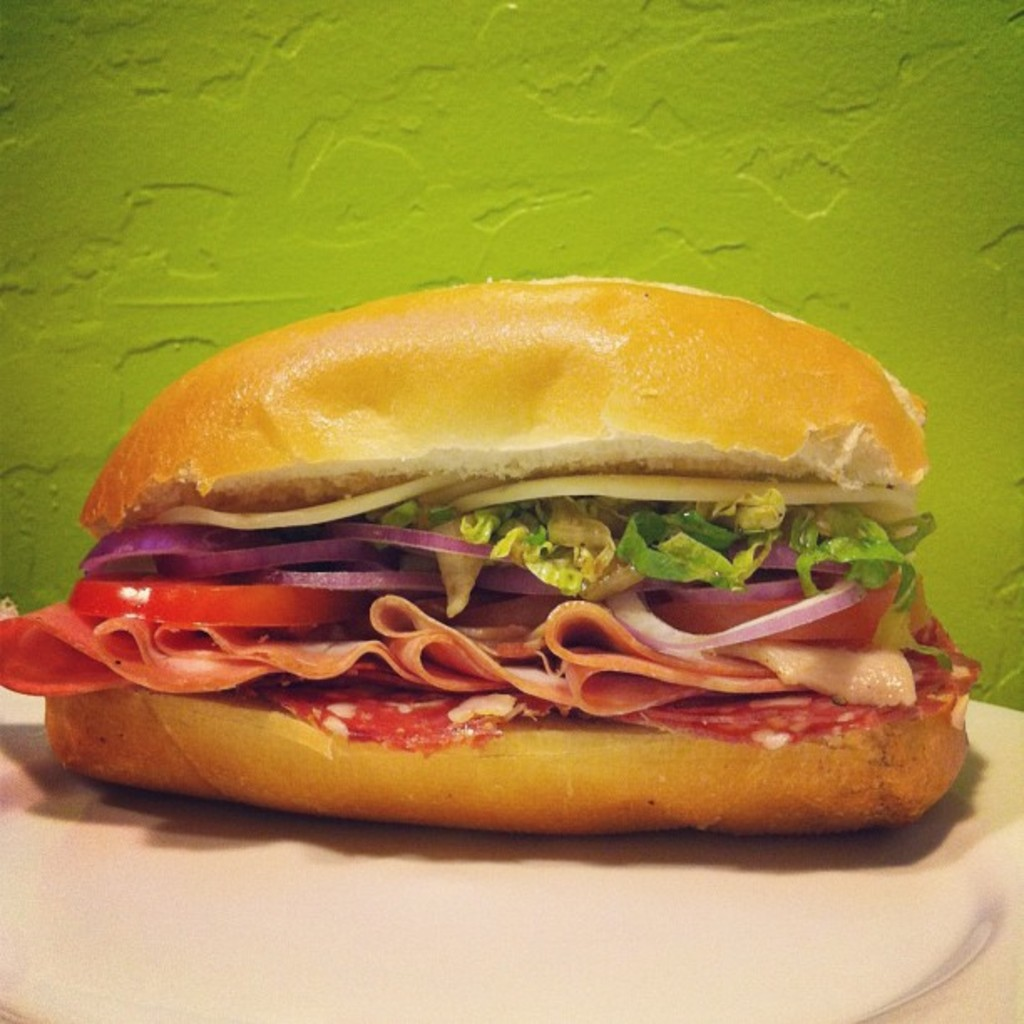Hamburger: (0, 272, 983, 836)
